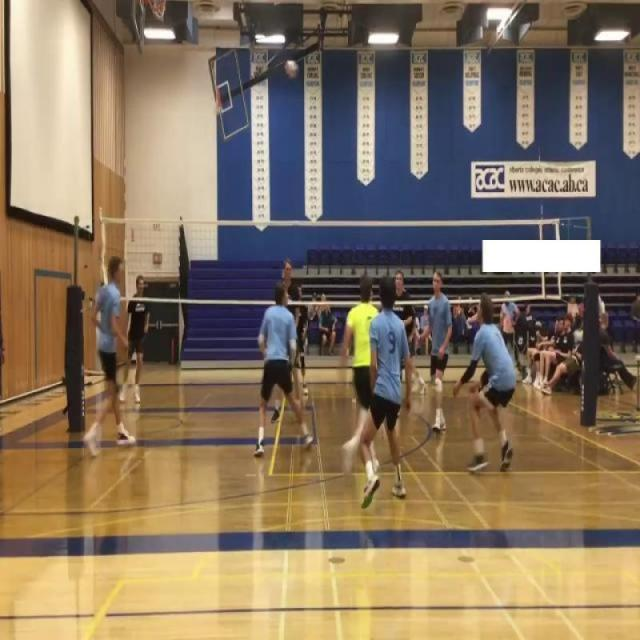volleyball: (284, 60, 300, 80)
